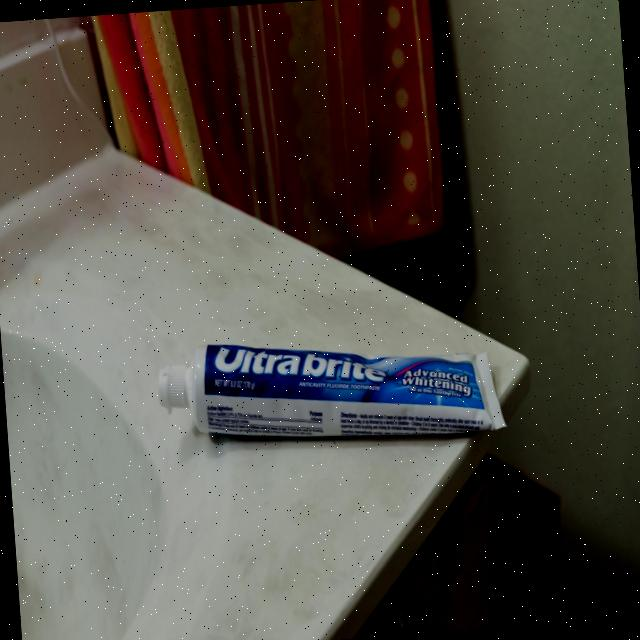Toothpaste: (145, 320, 512, 466)
